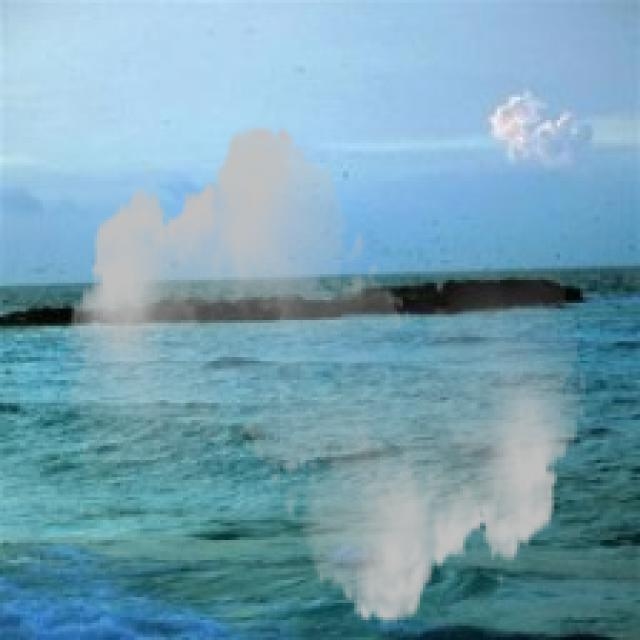smoke: (63, 109, 588, 637)
